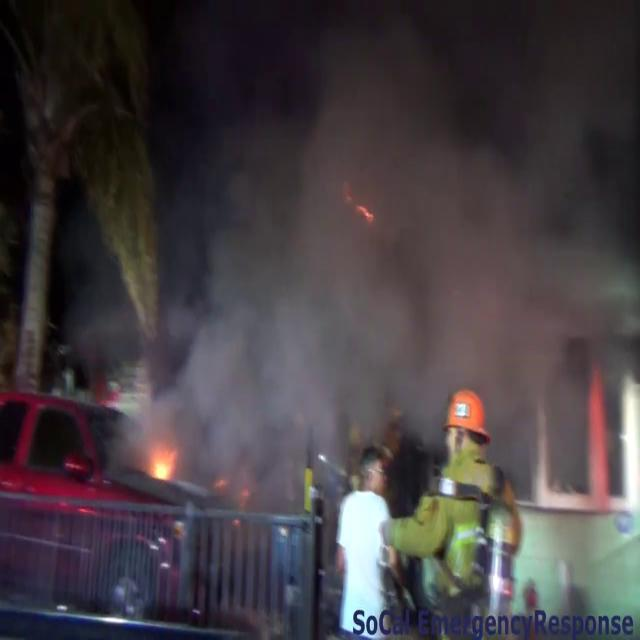Smoke: (57, 0, 638, 435)
